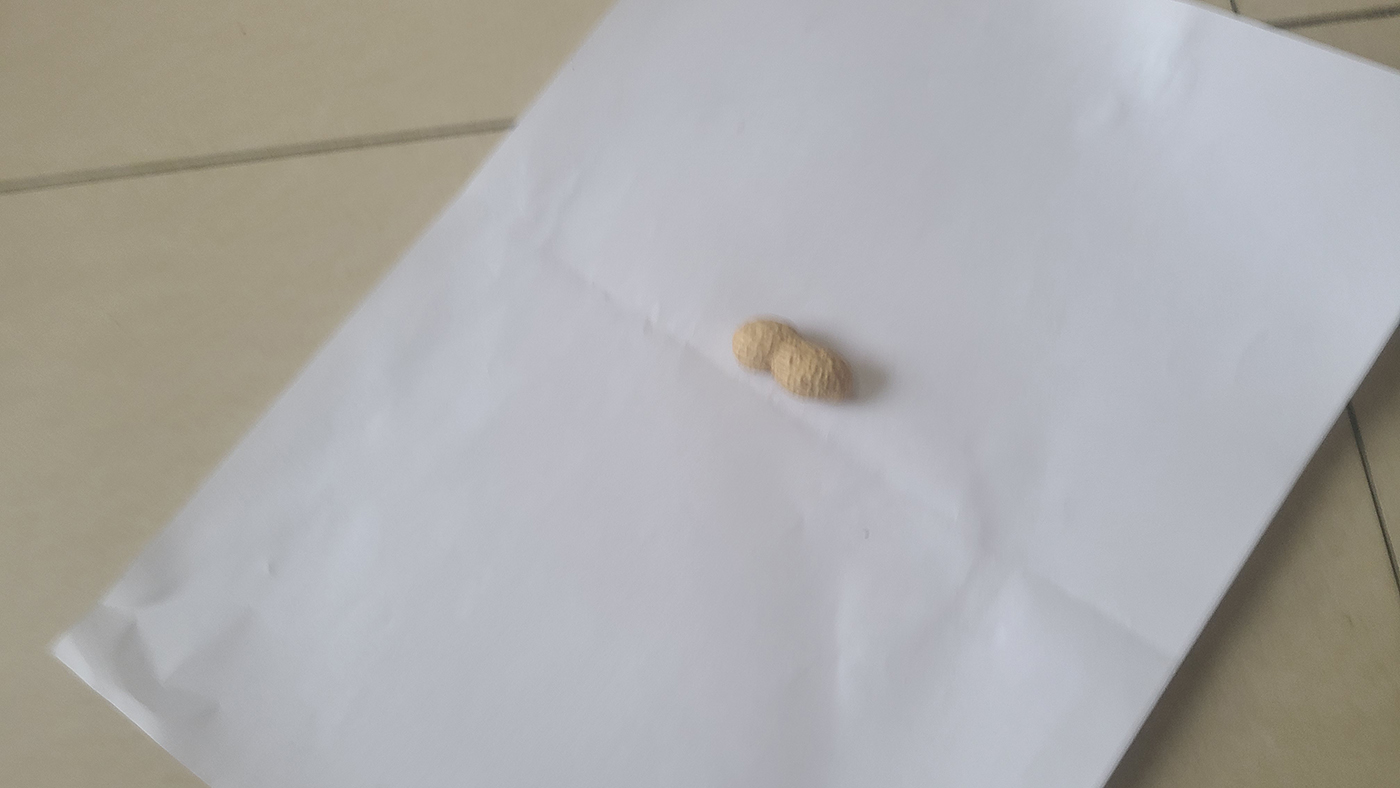h: (731, 316, 856, 403)
